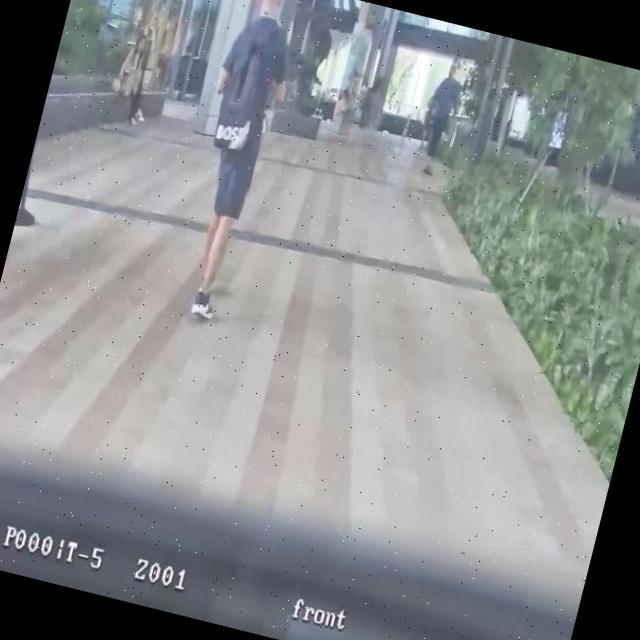person: (159, 0, 310, 325), (412, 60, 468, 178), (106, 32, 164, 130)
